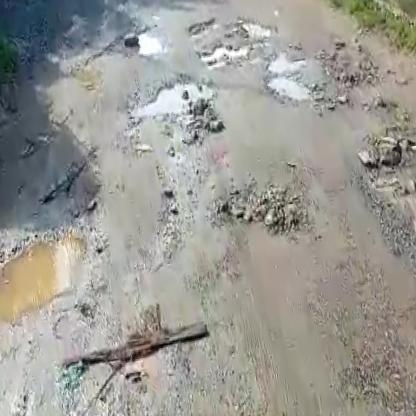pothole: (0, 221, 88, 331), (122, 71, 235, 146), (357, 119, 416, 216), (261, 54, 322, 111), (194, 38, 259, 73), (132, 23, 168, 64), (181, 15, 221, 37)
